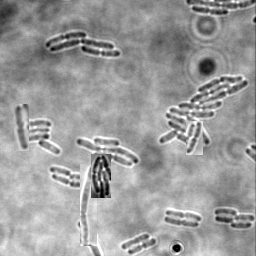Dividing: (80, 164, 97, 246), (14, 104, 29, 151), (186, 121, 203, 155), (128, 238, 157, 255), (166, 209, 202, 222), (164, 217, 200, 228), (52, 175, 80, 189), (192, 7, 229, 17)
Microcolony: (158, 76, 249, 147), (76, 137, 139, 168), (45, 32, 121, 57), (18, 120, 61, 155), (91, 154, 111, 198), (214, 208, 255, 229)
Rod: (121, 233, 150, 251), (50, 167, 72, 177), (69, 174, 80, 183)
